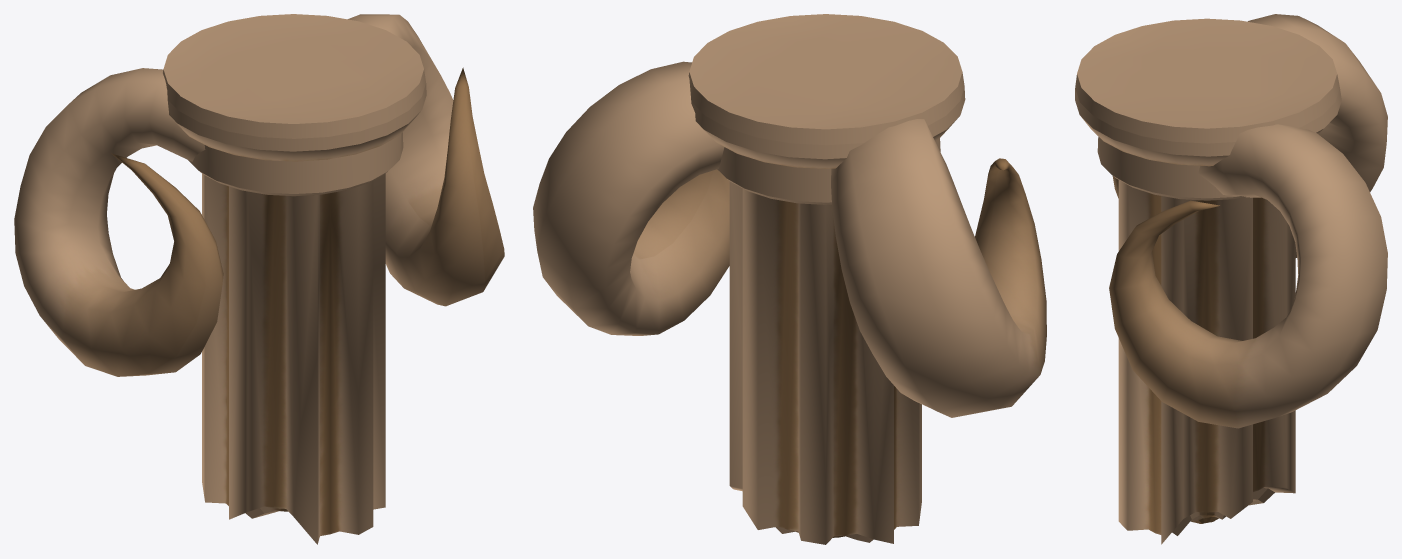
File: Pilar_Topo.fbx
3 views of the same model, side by side, from view 1: azimuth 30°, elevation 25°; view 2: azimuth 150°, elevation 25°; view 3: azimuth 270°, elevation 25° (orthographic). The views are drawn at different scales.
Parts seen in each view (by area): view 1: Pillar_Top; view 2: Pillar_Top; view 3: Pillar_Top.
Part boxes in pixels (bbox=[...]): Pillar_Top: bbox=[14, 14, 504, 544]; Pillar_Top: bbox=[533, 14, 1046, 544]; Pillar_Top: bbox=[1075, 14, 1387, 544].
Bounding box in the file's own units: 384 × 230 × 357.
Materials: 1 (1 with a texture image).
